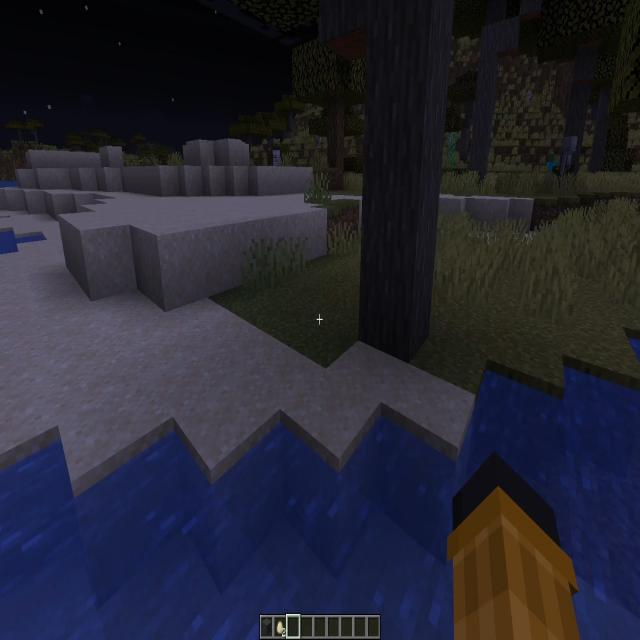Creeper: (447, 131, 456, 169)
Sheep: (315, 136, 322, 147)
Skeleton: (562, 136, 578, 192), (272, 150, 282, 165), (527, 90, 532, 108)
Zombie: (546, 154, 556, 182)
